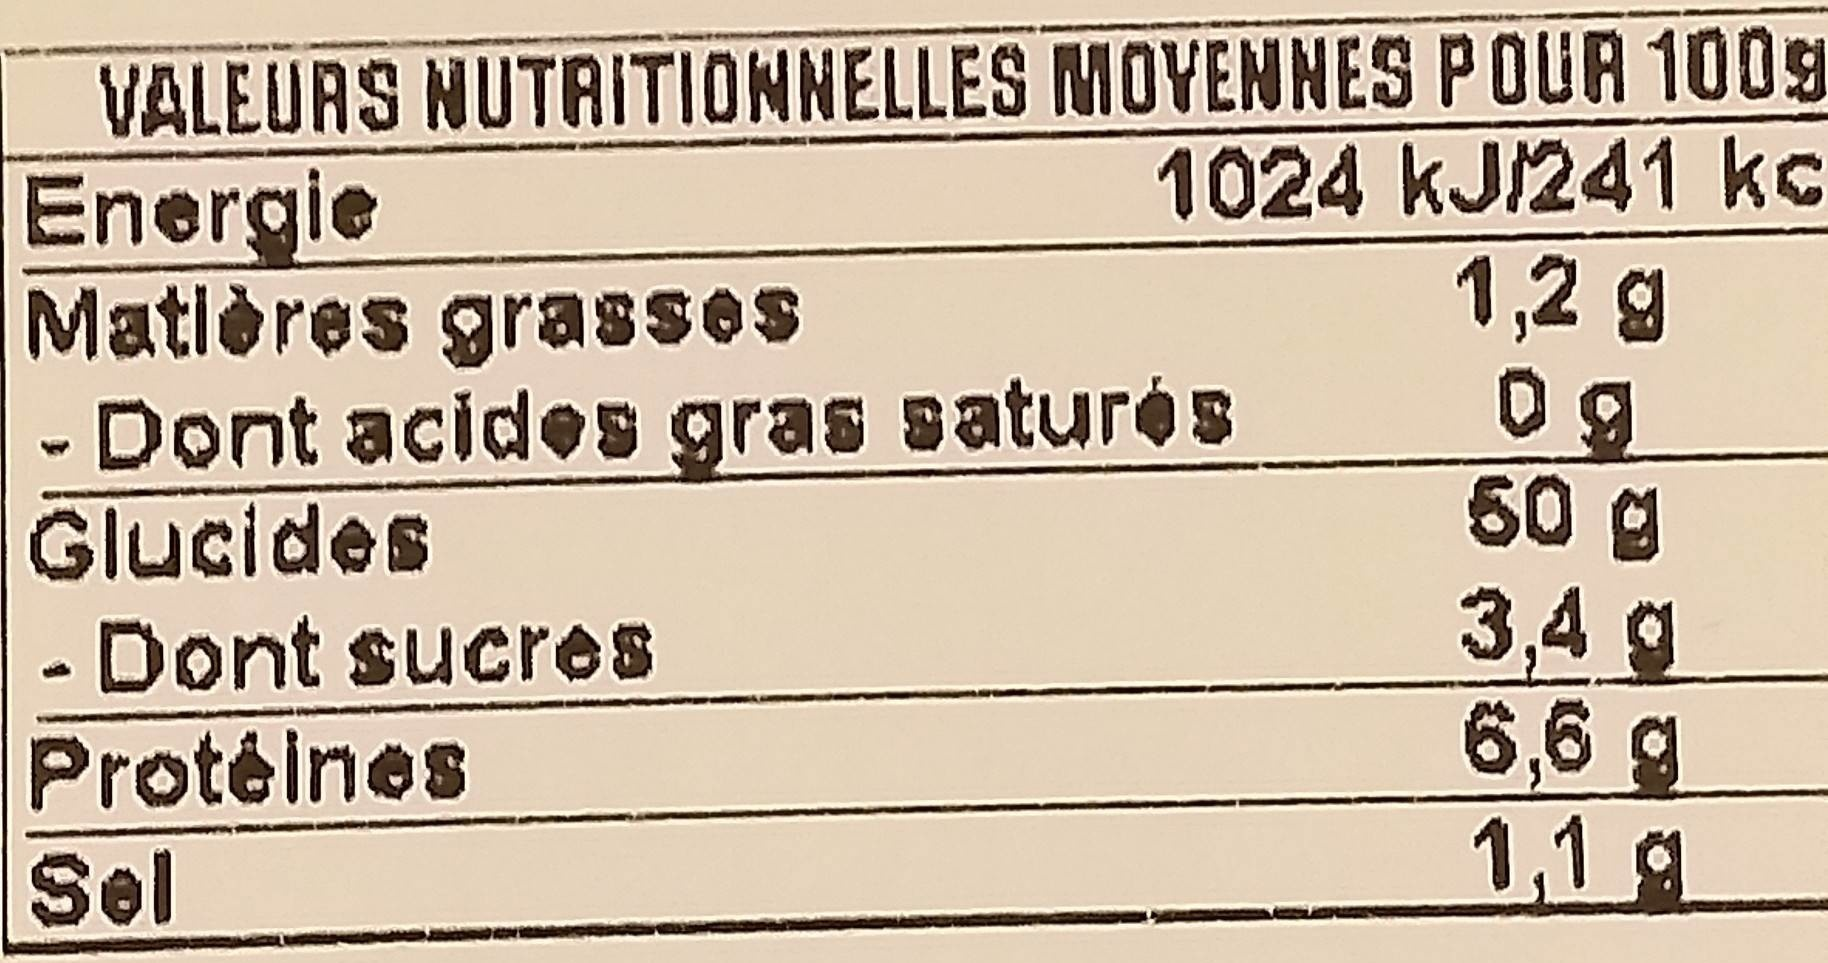column: (19, 173, 1233, 932), (1401, 144, 1828, 912)
table: (8, 4, 1828, 933)
